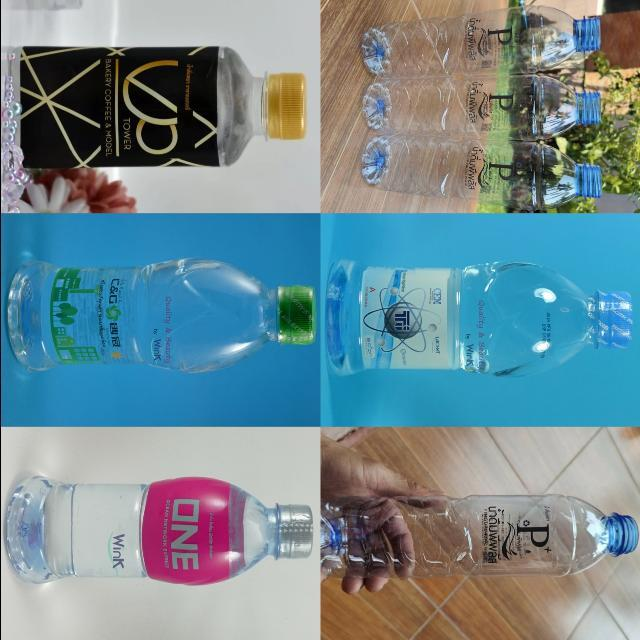PET Bottle: (15, 29, 313, 175), (10, 466, 320, 588), (332, 253, 634, 371), (9, 258, 318, 367), (326, 494, 640, 588), (355, 5, 613, 75), (358, 138, 608, 204), (356, 77, 612, 138)
